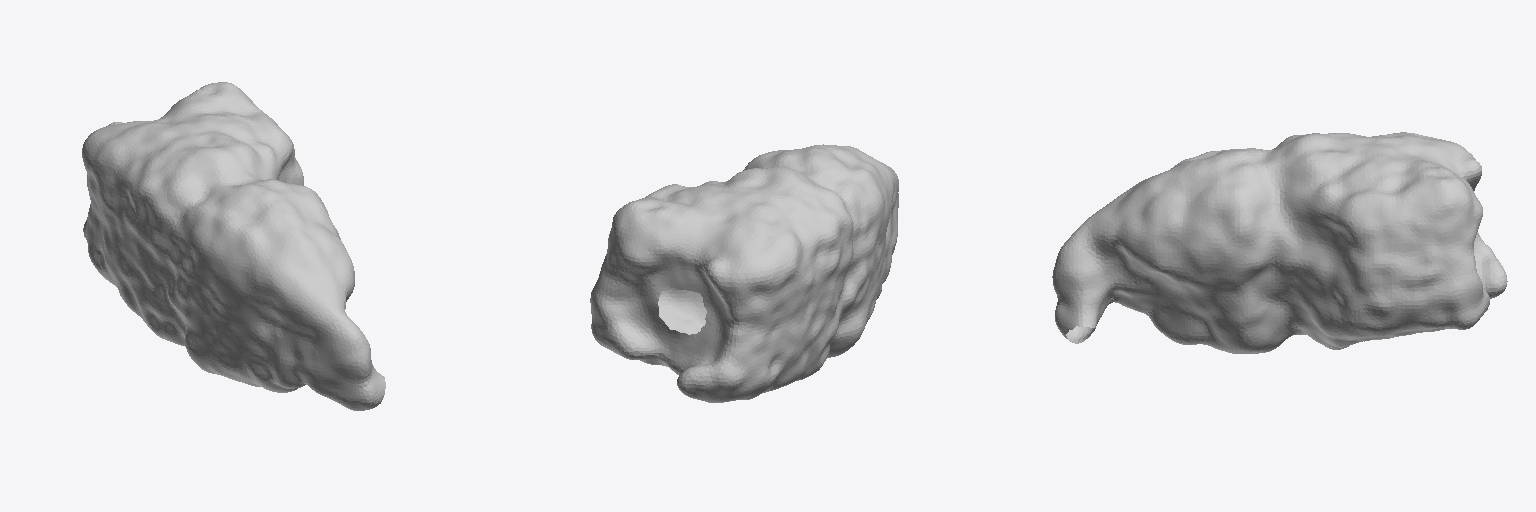
Rendered from mesh_1_cylinder_cut.obj.
The picture shows the model from 3 angles: view 1: azimuth 30°, elevation 25°; view 2: azimuth 150°, elevation 25°; view 3: azimuth 270°, elevation 25°; orthographic projection.
Parts seen in each view (by area): view 1: mesh_01; view 2: mesh_01; view 3: mesh_01.
Part boxes in pixels (x1,y1,x2,y2): mesh_01: (82,82,385,410); mesh_01: (590,144,898,402); mesh_01: (1052,132,1507,353).
Size of the model in its own units: 455 by 465 by 928.